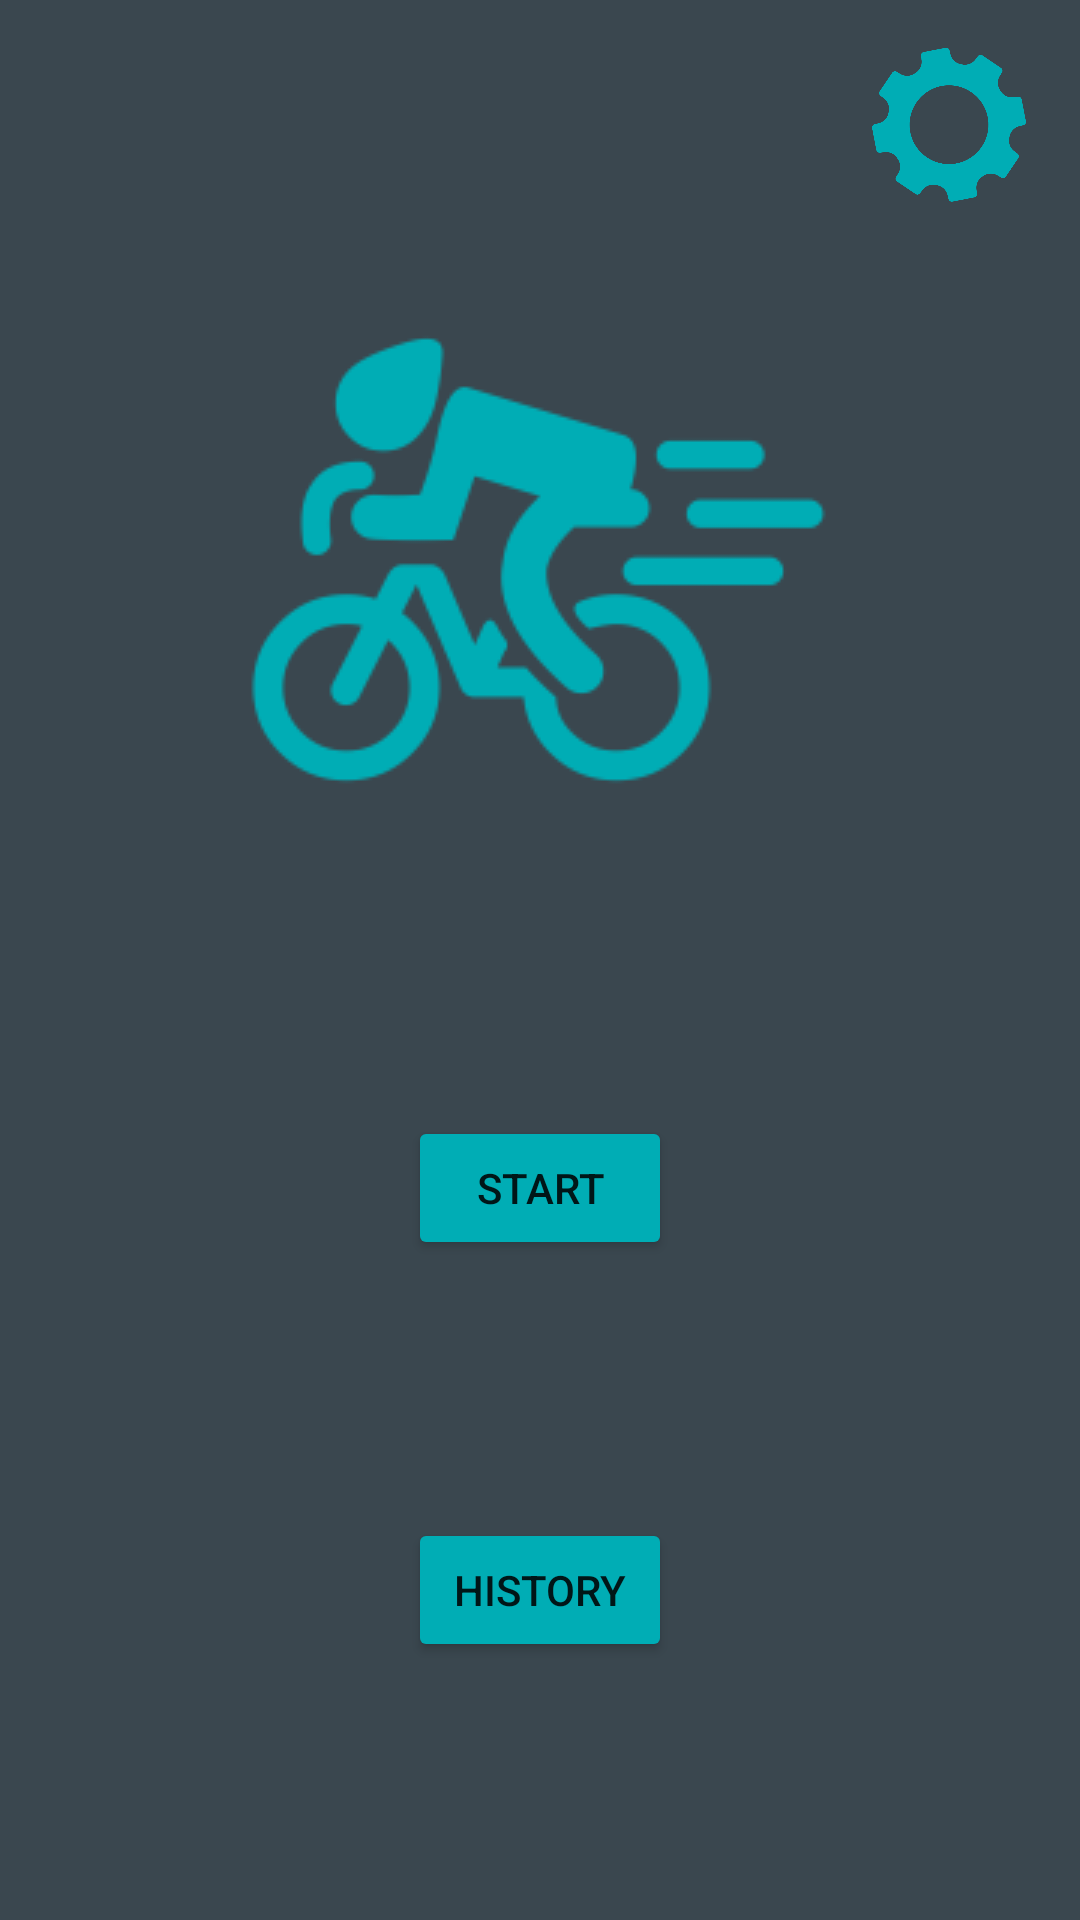

Icon bounding boxes for this 1080×1920 phone screenshot, format (x1, y1, x2, y2):
settings: (872, 48, 1026, 202)
